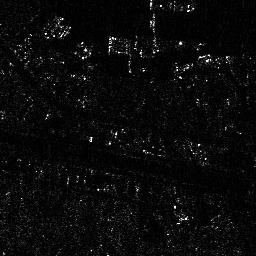ship: (148, 1, 196, 13)
